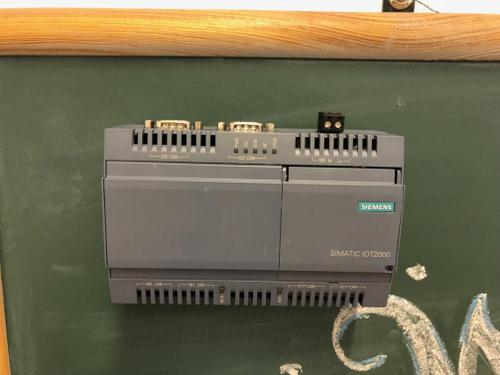device: (101, 111, 405, 306)
